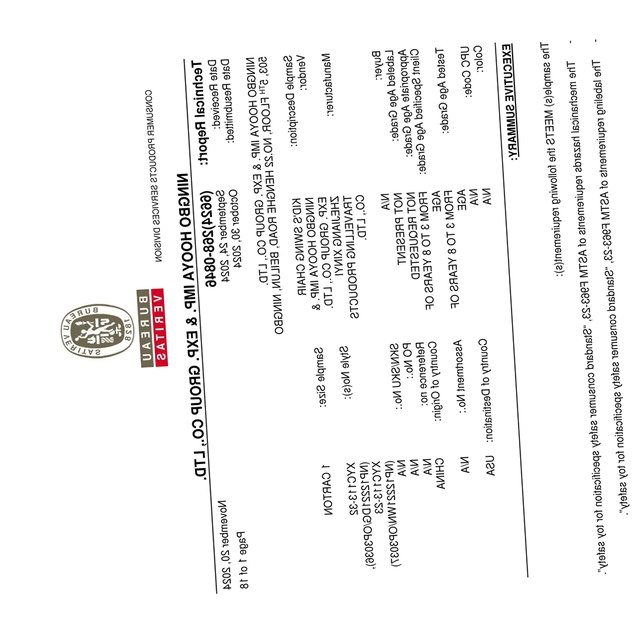bureau_veritas: (58, 285, 171, 369)
